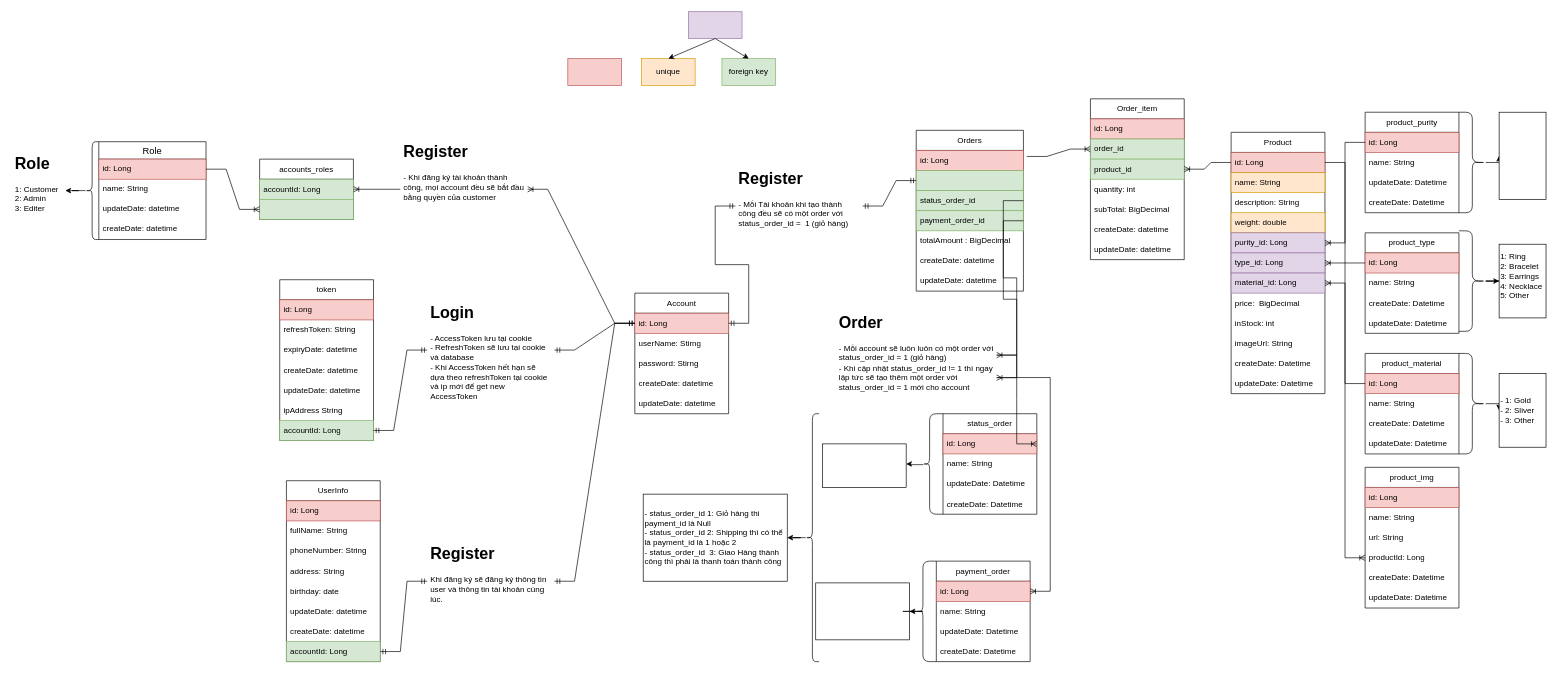
The diagram is 1558 pixels wide and 673 high, and some of its shapes have lost their labels. Here are the shapes that lost their labels. From the top down, the centre of each, then its label:
At pixel 715 25: "unique with foreign key".
At pixel 594 71: "primary key".
At pixel 1522 155: "1: SJC 2: 999 3: 985 4: 980 5: 950: 6: 750 7: 680 8: 610 9: Other".
At pixel 969 180: "account_id".
At pixel 306 209: "roleId: Long".
At pixel 864 465: "1: Shopping Cart 2: Shipping 3: Delivery Successful".
At pixel 862 611: "1: Pending 2: Cash On Delivery 3: Payment Completed".
